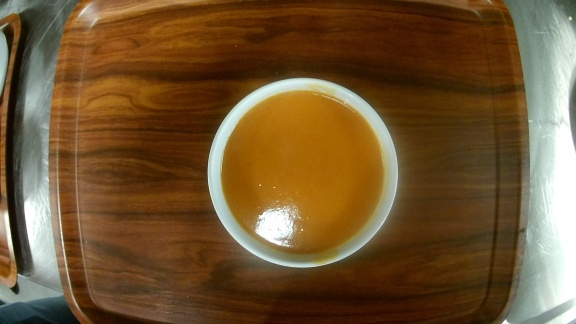domatescorba: (203, 76, 403, 269)
